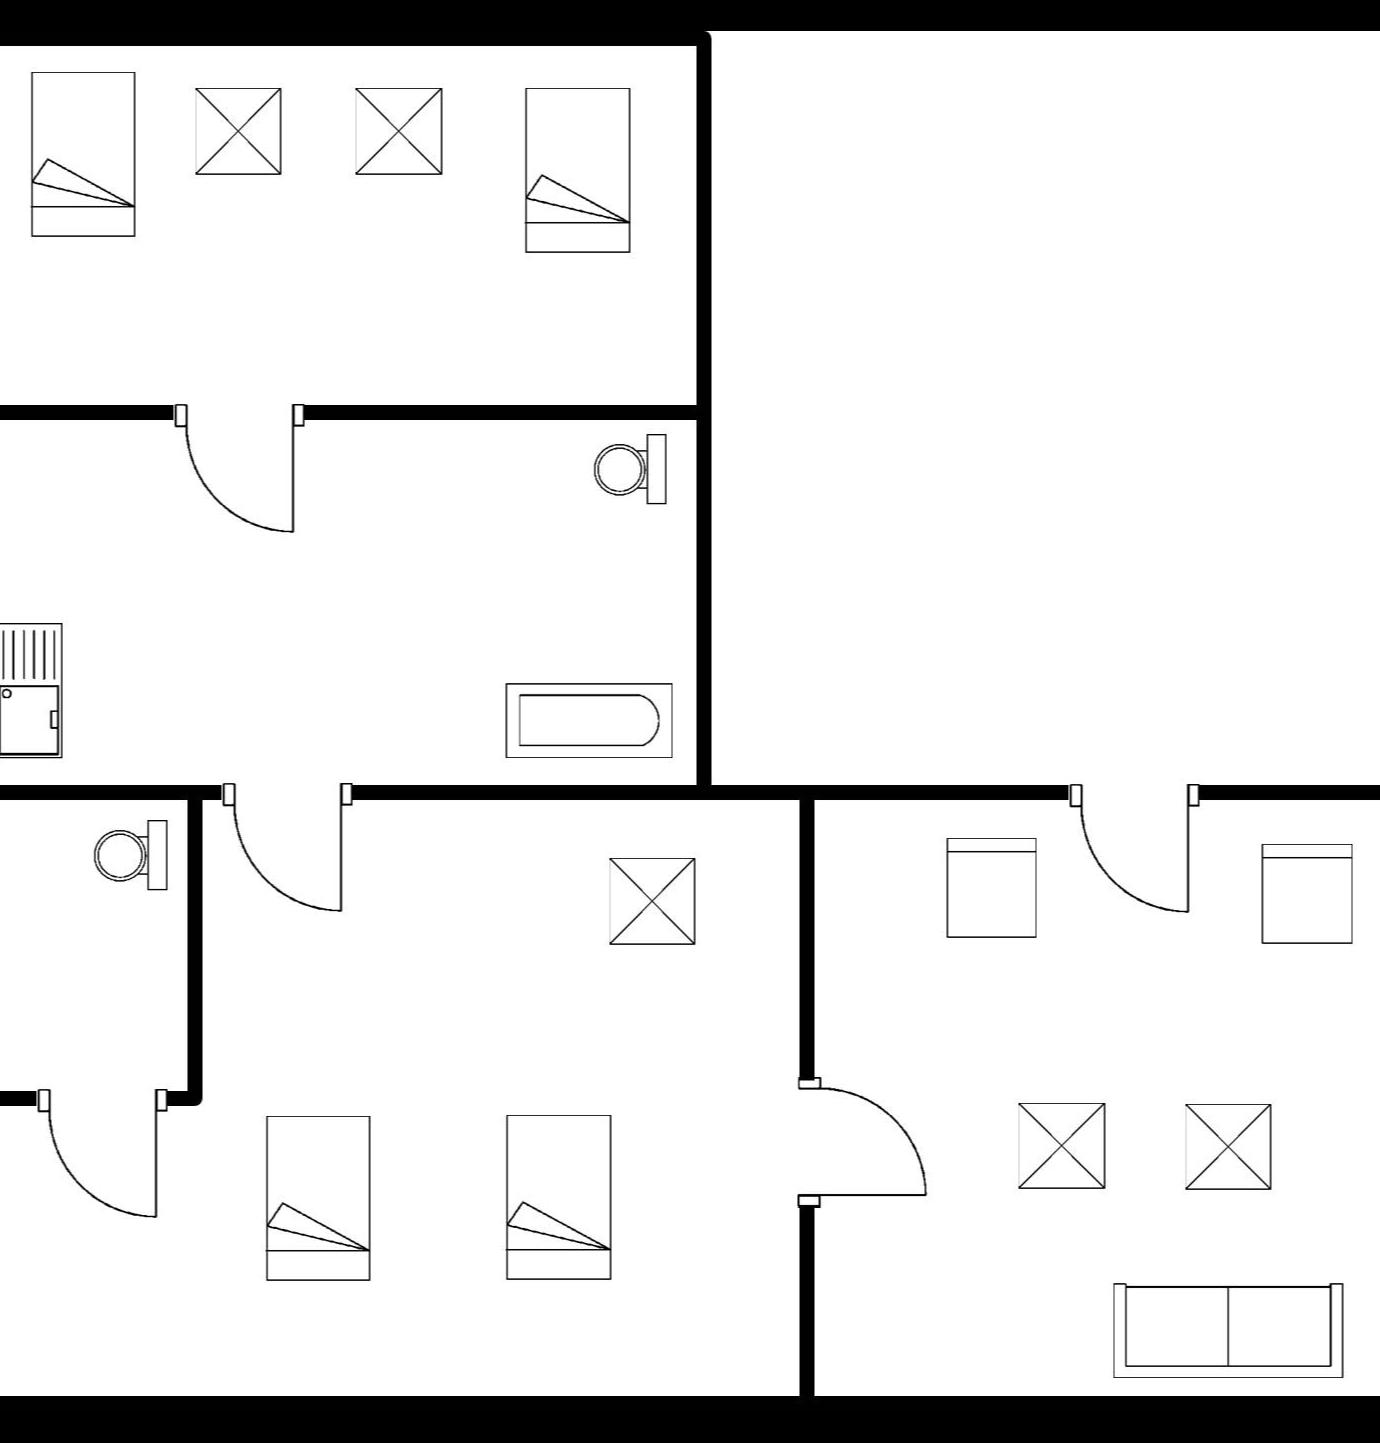bed: (491, 1108, 625, 1295), (255, 1105, 380, 1294)
sink: (0, 607, 73, 769)
sofa: (1104, 1273, 1350, 1388)
toilet: (581, 429, 676, 515), (94, 814, 174, 904)
tub: (495, 673, 683, 773)
